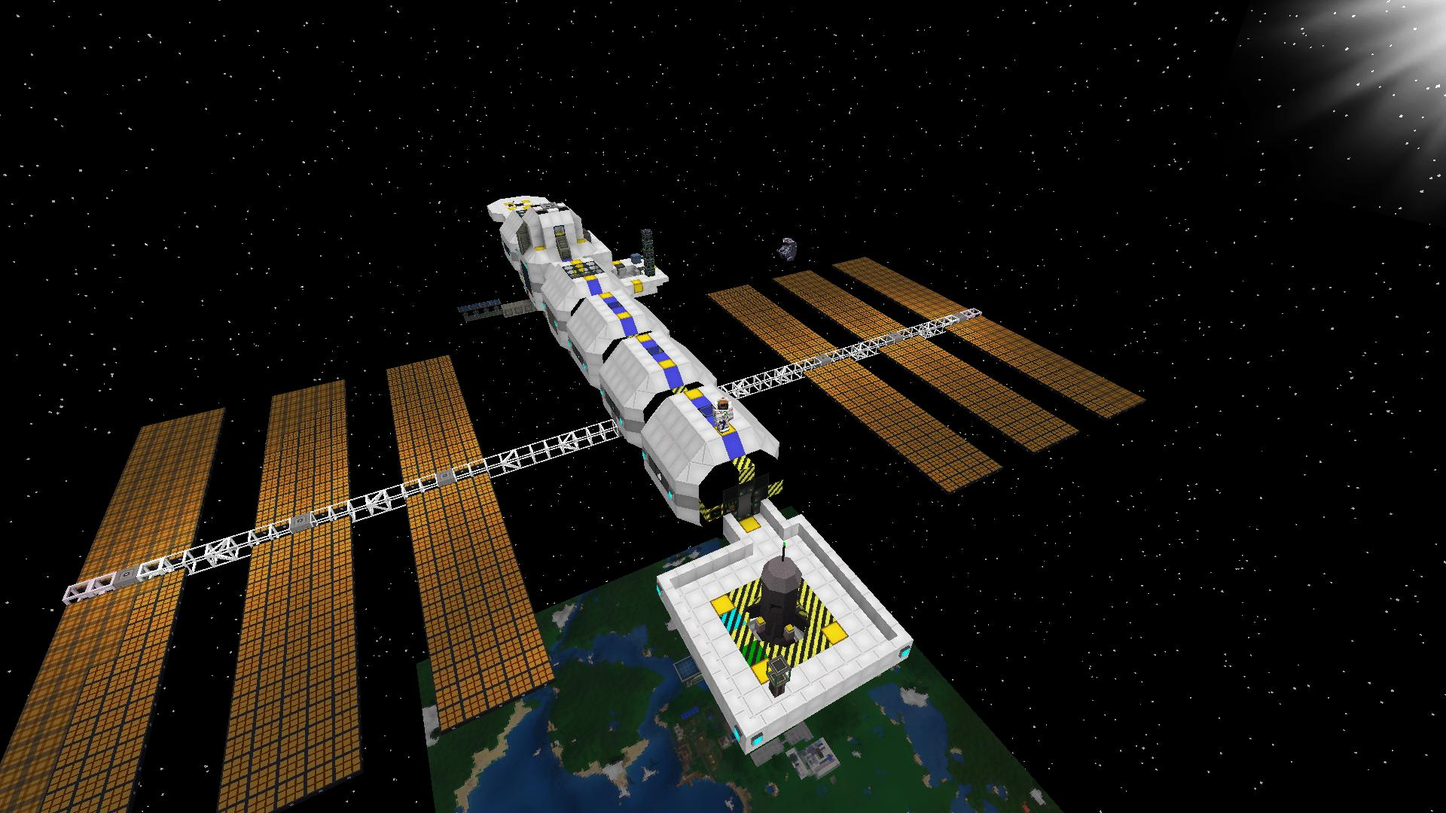body: (484, 192, 786, 538)
solar: (215, 513, 373, 813), (0, 565, 191, 813), (403, 469, 560, 738), (68, 404, 230, 593), (801, 354, 1006, 496), (876, 333, 1082, 456), (944, 313, 1149, 422), (252, 377, 352, 535), (382, 352, 487, 489), (703, 282, 842, 367), (771, 269, 912, 344), (830, 254, 972, 324)
